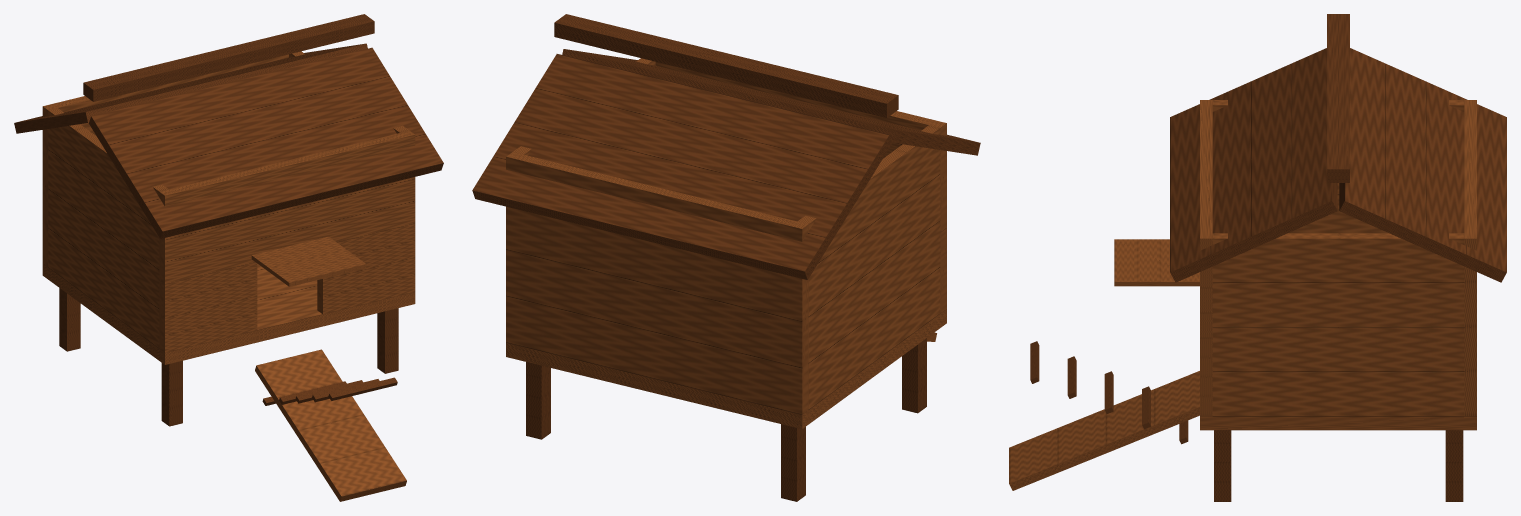
Rendered from farm-and-working-animals-hd-chicken-coop-204edc5c__29221.glb.
3 views of the same model, side by side, from view 1: azimuth 30°, elevation 25°; view 2: azimuth 150°, elevation 25°; view 3: azimuth 270°, elevation 25° (orthographic). The views are drawn at different scales.
Visible parts, largest first — view 1: chicken-coop, hatch; view 2: chicken-coop; view 3: chicken-coop, hatch.
Boxes of the visible parts, x1,y1,x2,y2 form: chicken-coop: (14,14,443,501); hatch: (251,236,366,286); chicken-coop: (472,14,980,501); chicken-coop: (1009,14,1506,501); hatch: (1114,239,1199,286).
Bounding box in the file's own units: 1.46 × 1.67 × 1.98.
2 materials, 2 textured.
